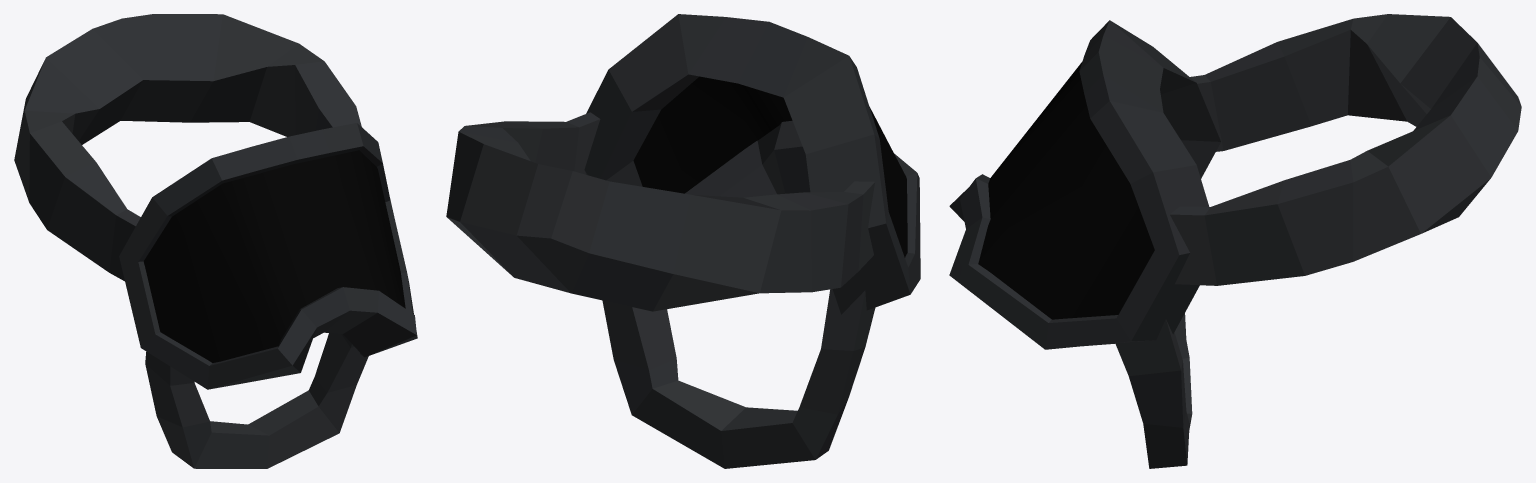
File: SM_Chr_Attach_Head_Goggles_Small_01.fbx
3 views of the same model, side by side, from view 1: azimuth 30°, elevation 25°; view 2: azimuth 150°, elevation 25°; view 3: azimuth 270°, elevation 25° (orthographic). The views are drawn at different scales.
Parts seen in each view (by area): view 1: SM_Chr_Attach_Head_Goggles_Small_01; view 2: SM_Chr_Attach_Head_Goggles_Small_01; view 3: SM_Chr_Attach_Head_Goggles_Small_01.
Part boxes in pixels (left/top/right/bottom): SM_Chr_Attach_Head_Goggles_Small_01: left=14, top=14, right=417, bottom=468; SM_Chr_Attach_Head_Goggles_Small_01: left=446, top=14, right=920, bottom=468; SM_Chr_Attach_Head_Goggles_Small_01: left=949, top=14, right=1521, bottom=468.
Bounding box in the file's own units: 18.03 × 20.06 × 25.92.
